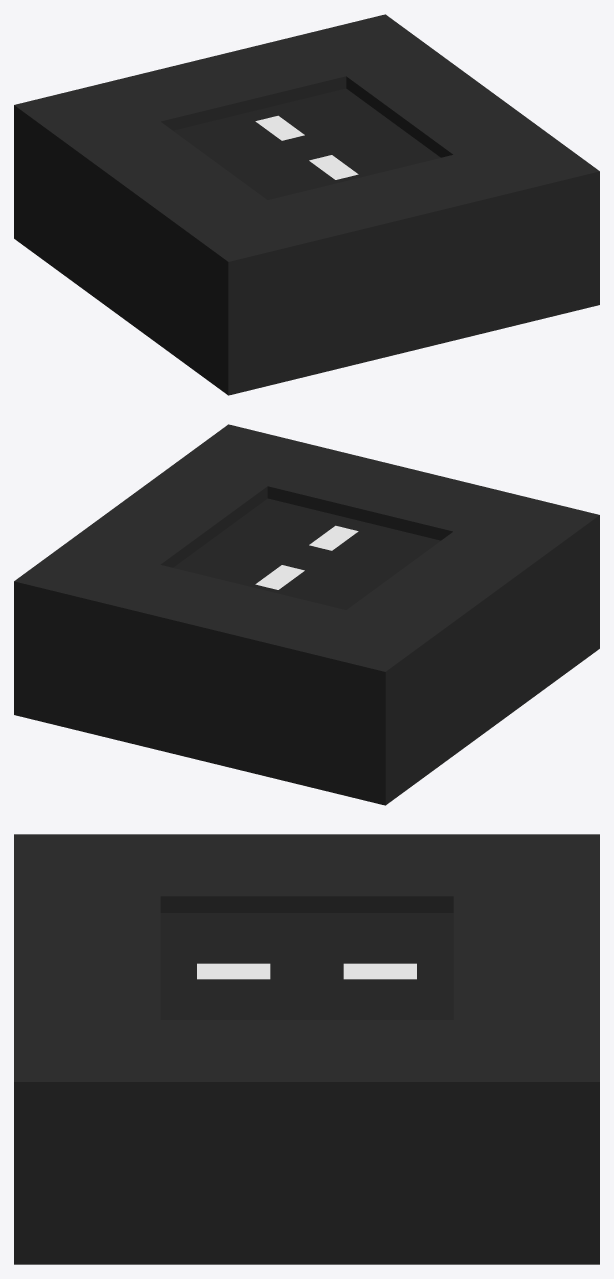
Rendered from city-road.obj.
3 views of the same model, one above another, from view 1: azimuth 30°, elevation 25°; view 2: azimuth 150°, elevation 25°; view 3: azimuth 270°, elevation 25° (orthographic). The views are drawn at different scales.
Parts seen in each view (by area): view 1: grass, road, plane; view 2: grass, road, plane; view 3: grass, road, plane.
Boxes of the visible parts, x1,y1,x2,y2 form: grass: (14,14,599,395); road: (173,88,440,199); plane: (255,115,358,179); grass: (14,424,599,805); road: (173,498,440,609); plane: (255,525,358,589); grass: (14,834,599,1264); road: (160,913,453,1019); plane: (197,963,416,979).
Bounding box in the file's own units: 0.25 × 0.0859 × 0.25.
1 material, 1 textured.
